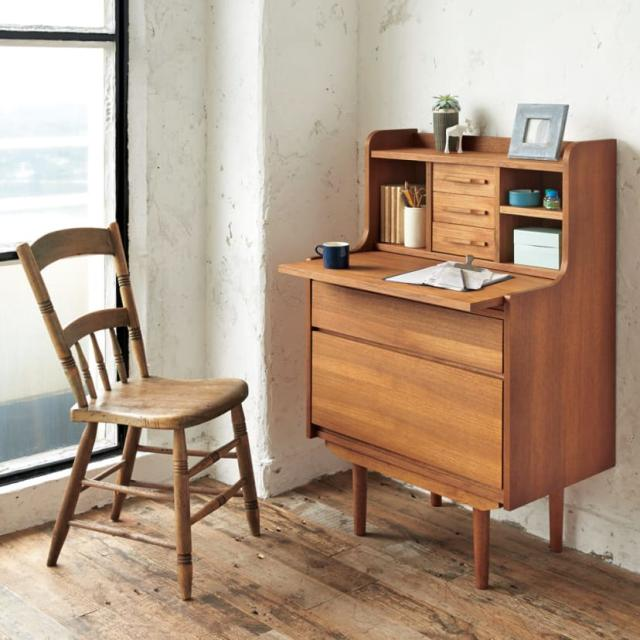vintage chair: (17, 221, 261, 603)
vintage shelf: (281, 127, 618, 590)
